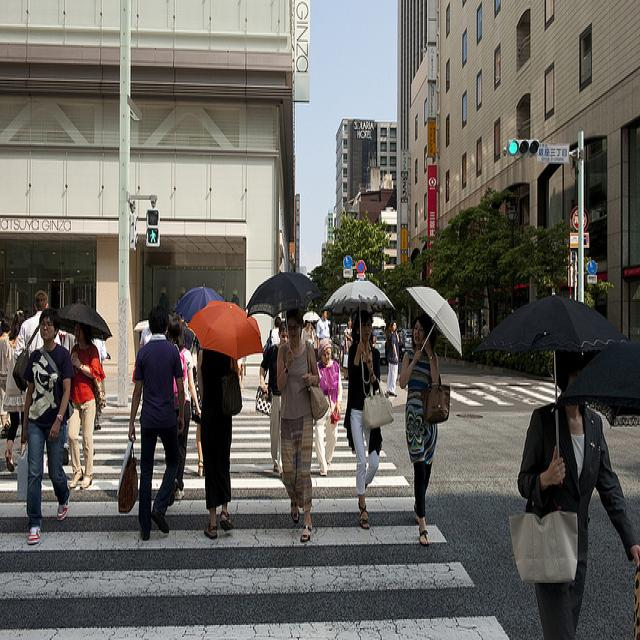Vehicle: (373, 328, 386, 365), (404, 337, 412, 348)
